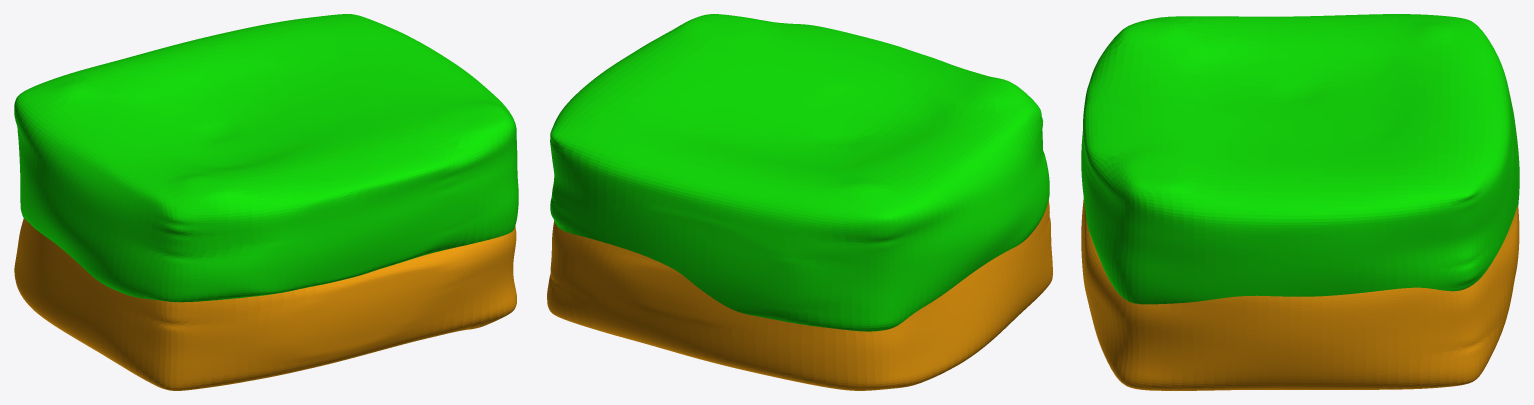
Rendered from Chão-Junto.fbx.
3 renders of one model, left to right at view 1: azimuth 30°, elevation 25°; view 2: azimuth 150°, elevation 25°; view 3: azimuth 270°, elevation 25°, orthographic. The views are drawn at different scales.
Visible parts, largest first — view 1: Sphere; view 2: Sphere; view 3: Sphere.
Part boxes in pixels (box(x1,y1,x2,y2)): Sphere: box(14, 14, 518, 390); Sphere: box(547, 14, 1052, 390); Sphere: box(1081, 14, 1519, 390).
Bounding box in the file's own units: 5633 × 2618 × 4904.
